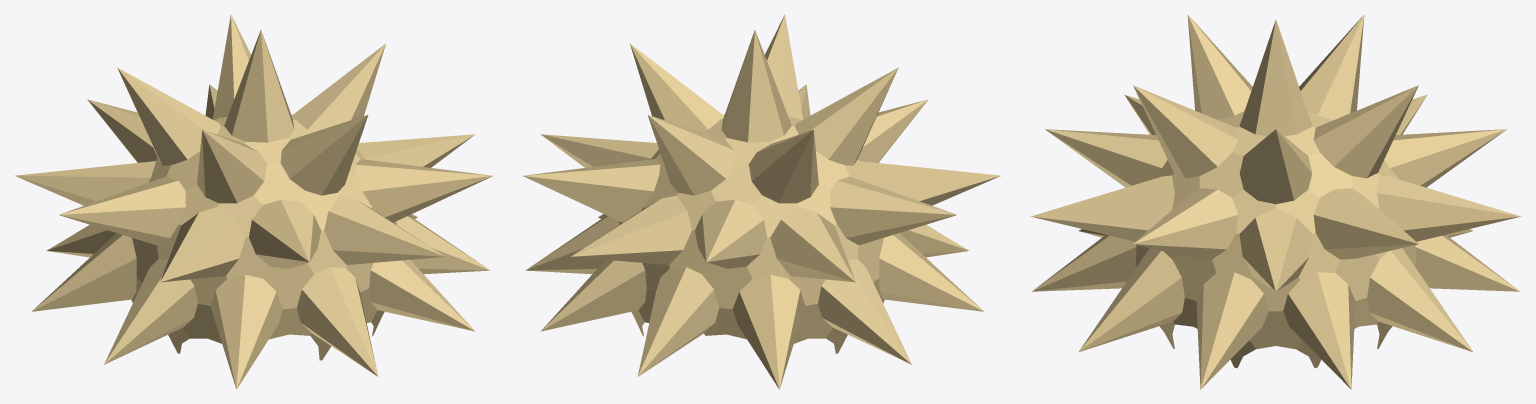
File: bakugouHair.fbx
The picture shows the model from 3 angles, left to right: view 1: azimuth 30°, elevation 25°; view 2: azimuth 150°, elevation 25°; view 3: azimuth 270°, elevation 25°; orthographic projection. The views are drawn at different scales.
Parts seen in each view (by area): view 1: Icosphere; view 2: Icosphere; view 3: Icosphere.
Part boxes in pixels (x1,y1,x2,y2): Icosphere: (15,14,493,389); Icosphere: (522,14,1000,389); Icosphere: (1031,14,1520,389).
Size of the model in its own units: 329 by 216 by 322.
